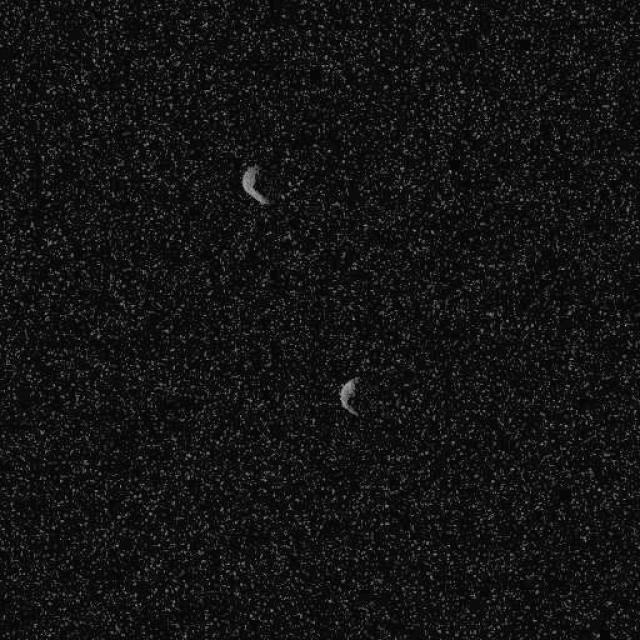D2: (240, 162, 274, 206), (338, 375, 360, 417)
